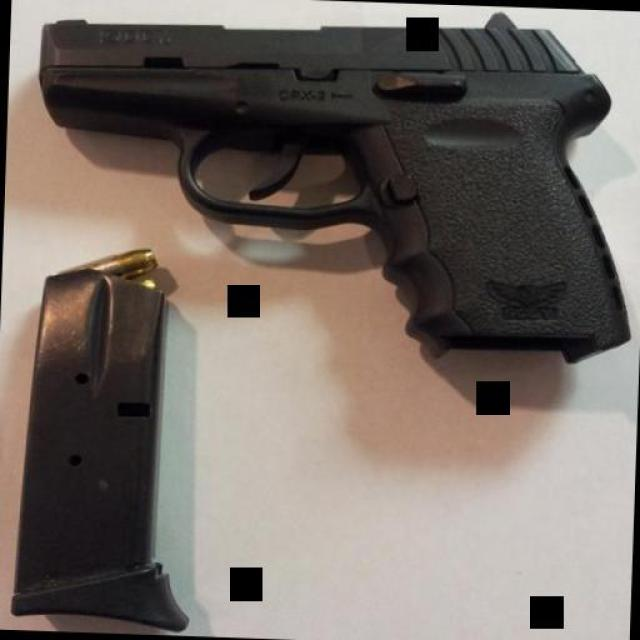gun: (27, 0, 640, 375)
